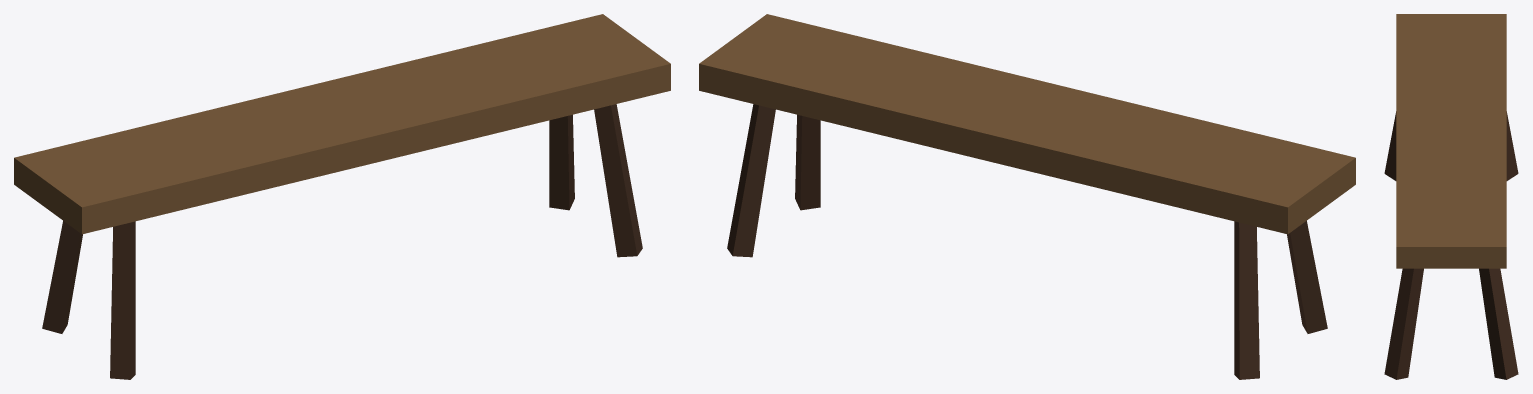
File: b10_baenk.glb
3 views of the same model, side by side, from view 1: azimuth 30°, elevation 25°; view 2: azimuth 150°, elevation 25°; view 3: azimuth 270°, elevation 25° (orthographic). The views are drawn at different scales.
Visible parts, largest first — view 1: B10_baenk; view 2: B10_baenk; view 3: B10_baenk.
Boxes of the visible parts, x1,y1,x2,y2 form: B10_baenk: (14,14,670,379); B10_baenk: (699,14,1355,379); B10_baenk: (1384,14,1518,379).
Size of the model in its own units: 1.6 by 0.4702 by 0.3892.
